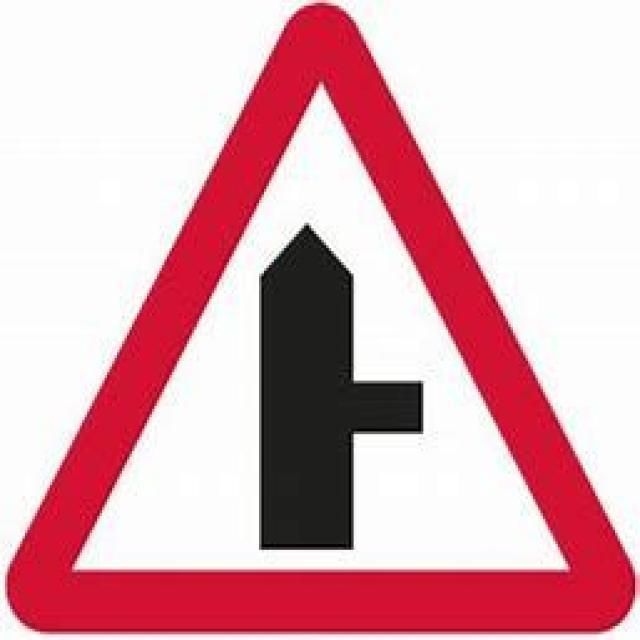side road right: (15, 15, 625, 626)
